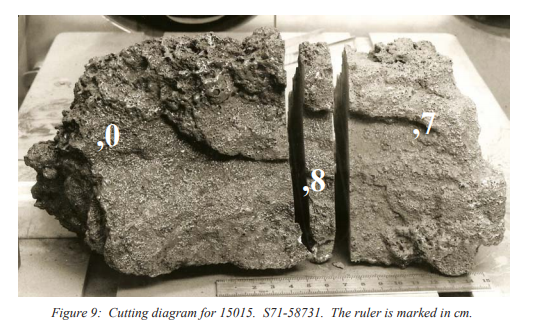Breccia: (43, 38, 288, 274), (329, 22, 504, 282), (296, 32, 344, 267)
